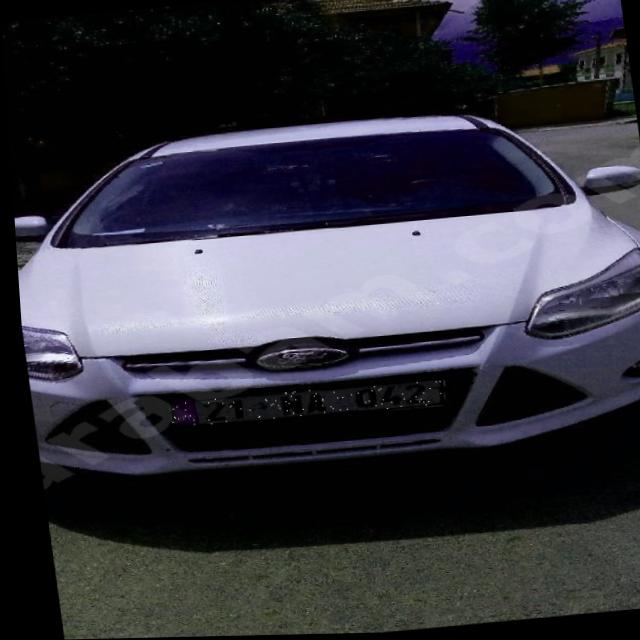license_plate: (163, 379, 441, 429)
